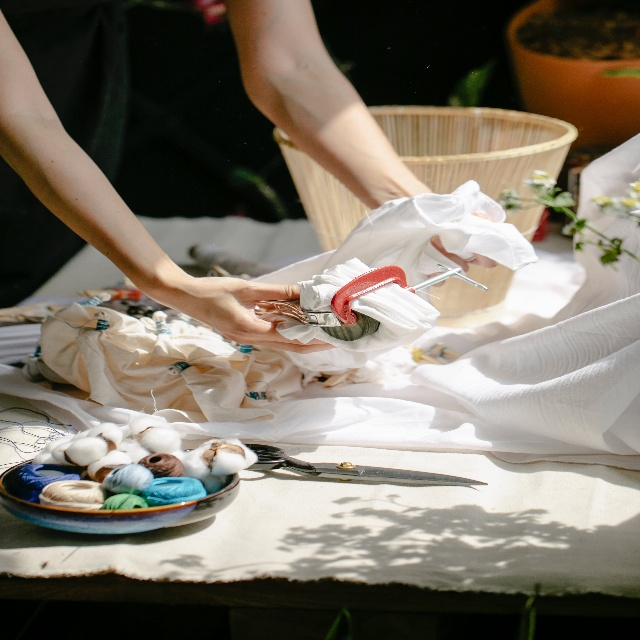Sin_guantes: (195, 269, 338, 355)
